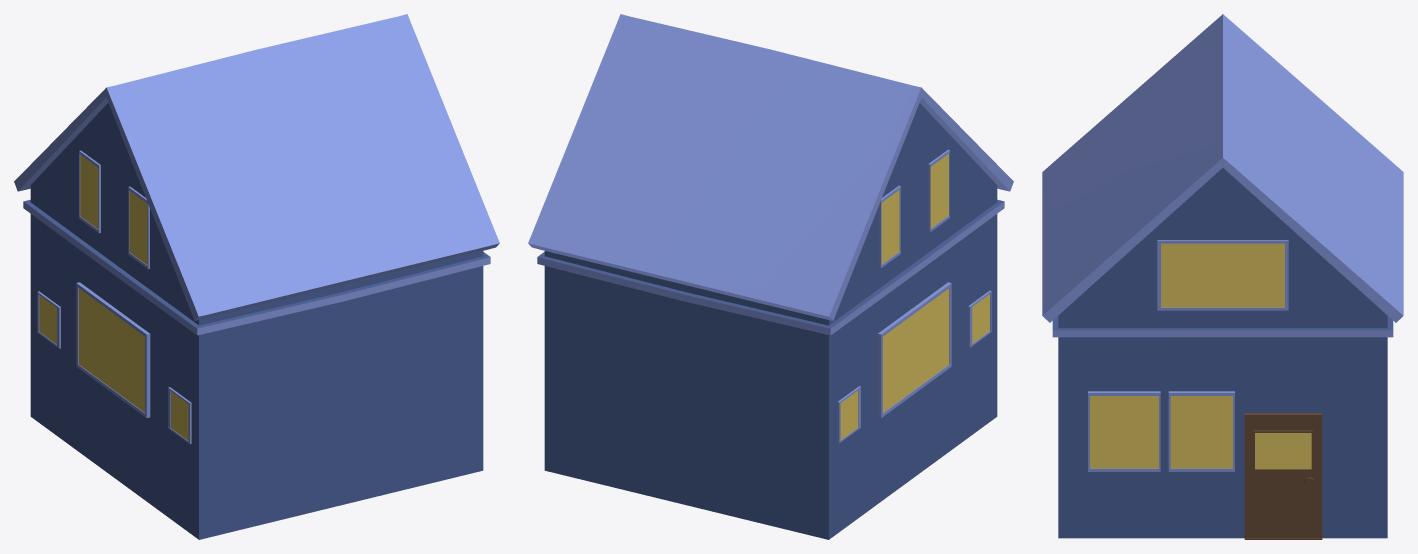
The model's file is ShortHouse6.fbx.
3 views of the same model, side by side, from view 1: azimuth 30°, elevation 25°; view 2: azimuth 150°, elevation 25°; view 3: azimuth 270°, elevation 25° (orthographic). The views are drawn at different scales.
Parts seen in each view (by area): view 1: BasicHouse.002; view 2: BasicHouse.002; view 3: BasicHouse.002.
Part boxes in pixels (bbox=[...]): BasicHouse.002: bbox=[14, 14, 499, 539]; BasicHouse.002: bbox=[528, 14, 1013, 539]; BasicHouse.002: bbox=[1042, 14, 1403, 539].
Bounding box in the file's own units: 1034 × 1291 × 1096.
